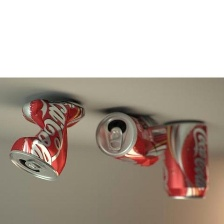can: (3, 93, 89, 187), (92, 103, 170, 177), (162, 118, 214, 203)
